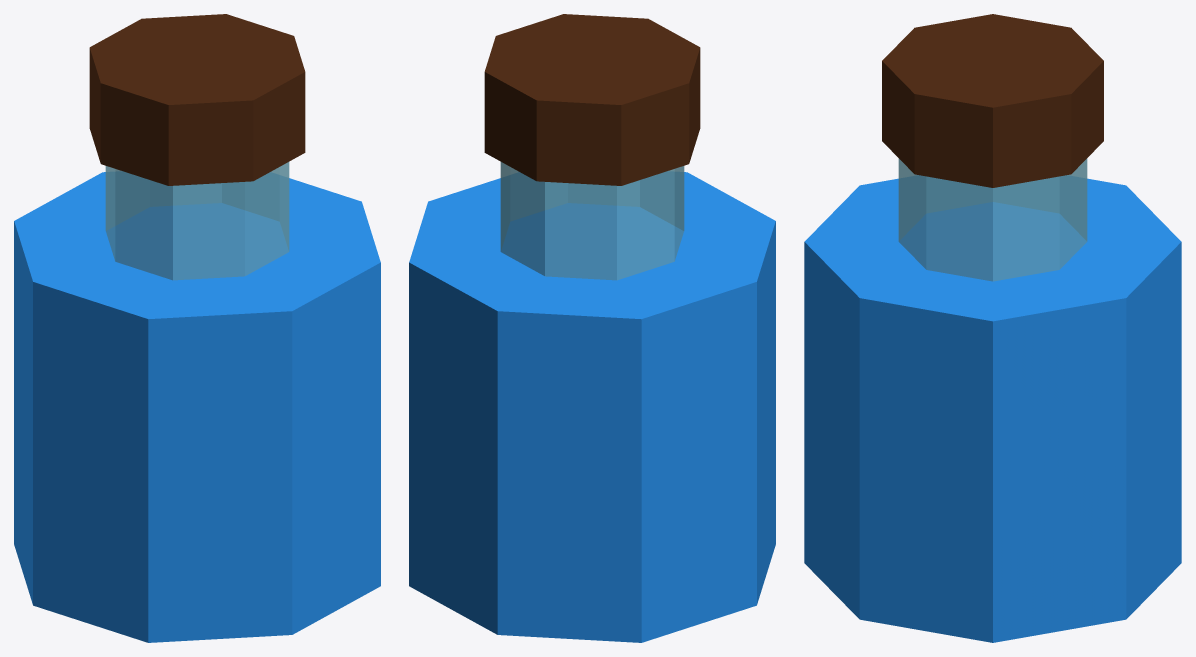
File: mana_potion.obj
3 views of the same model, side by side, from view 1: azimuth 30°, elevation 25°; view 2: azimuth 150°, elevation 25°; view 3: azimuth 270°, elevation 25° (orthographic).
Visible parts, largest first — view 1: models/items/mana_potion.obj; view 2: models/items/mana_potion.obj; view 3: models/items/mana_potion.obj.
Part boxes in pixels (x1,y1,x2,y2): models/items/mana_potion.obj: (14,14,380,642); models/items/mana_potion.obj: (409,14,775,642); models/items/mana_potion.obj: (804,14,1181,642).
Bounding box in the file's own units: 0.68 × 1 × 0.68.
